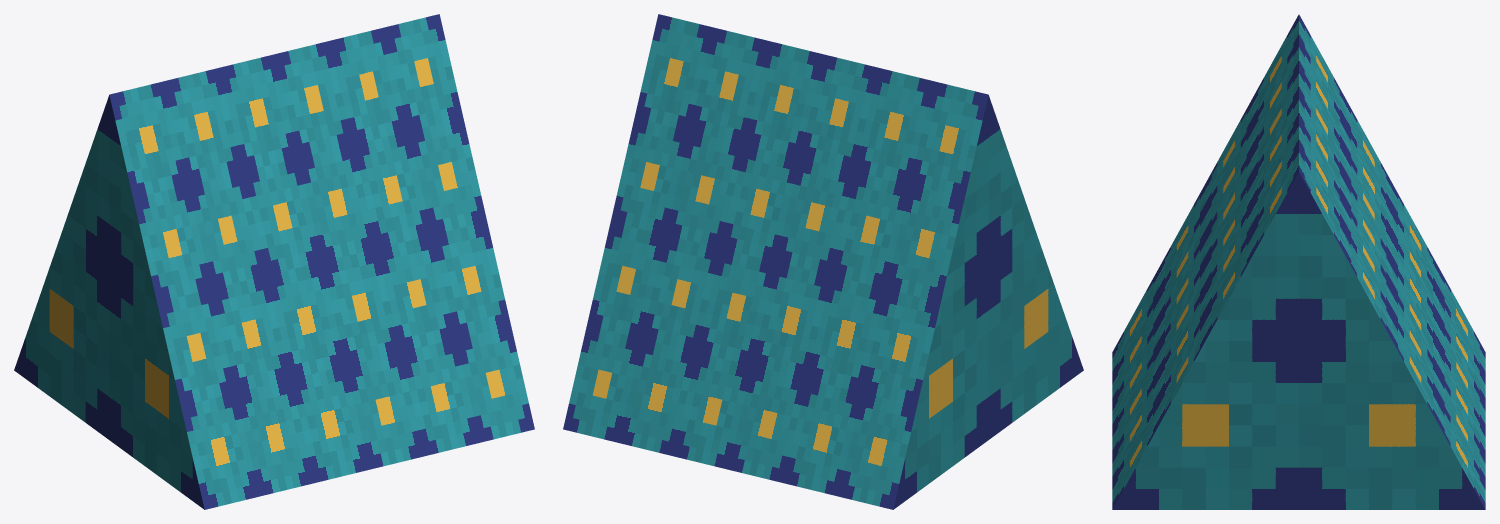
Rendered from gable_tile.glb.
3 views of the same model, side by side, from view 1: azimuth 30°, elevation 25°; view 2: azimuth 150°, elevation 25°; view 3: azimuth 270°, elevation 25° (orthographic). The views are drawn at different scales.
Parts seen in each view (by area): view 1: gable_tile; view 2: gable_tile; view 3: gable_tile.
Boxes of the visible parts, x1,y1,x2,y2 form: gable_tile: (14,14,534,509); gable_tile: (563,14,1083,509); gable_tile: (1112,14,1485,509).
Size of the model in its own units: 1 by 1 by 1.
Materials: 1 (1 with a texture image).
